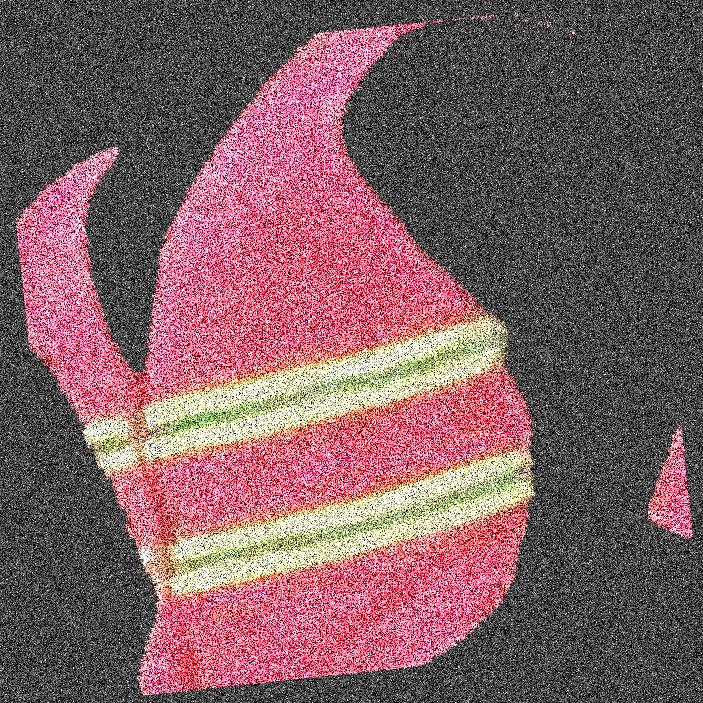Colete: (102, 0, 466, 702)
